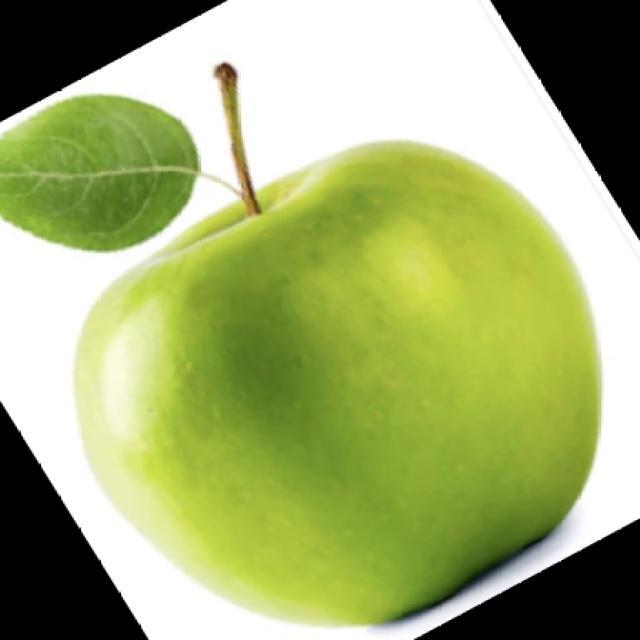Fresh Apple: (90, 140, 597, 610)
